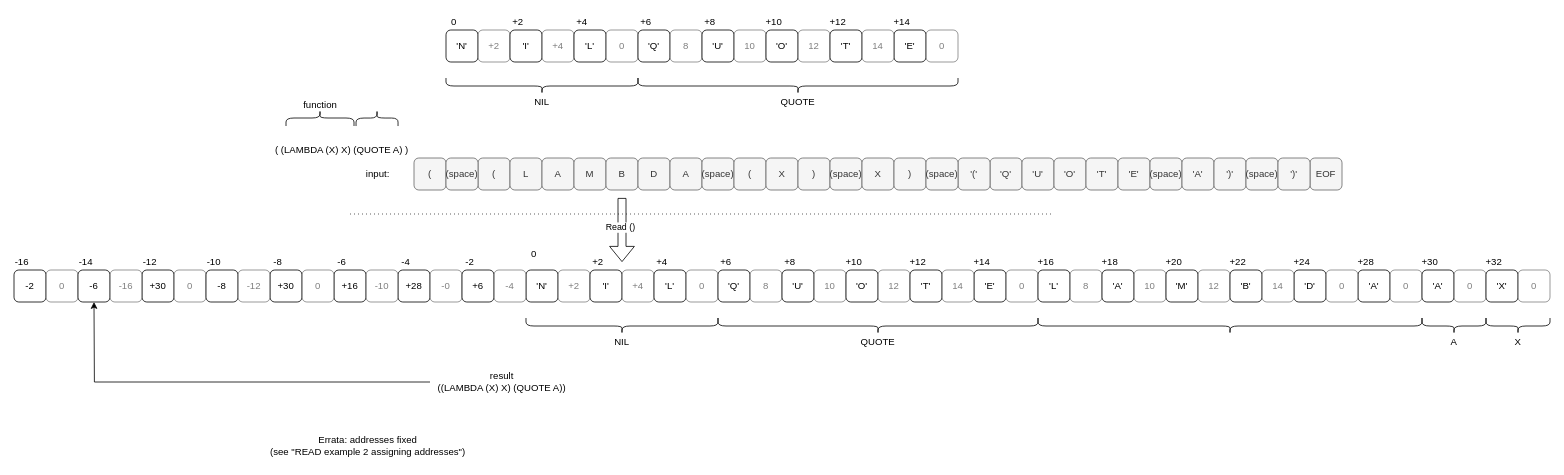
Image size: 1564x475. Some labels were removed from this diagram. The shapes that lost their labels are listed below. From the top down, each one's centre as x and y in pixels, then its label:
At point (376, 117): "arg".
At point (1229, 325): "LAMBDA".
